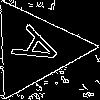A: (9, 24, 74, 76)
